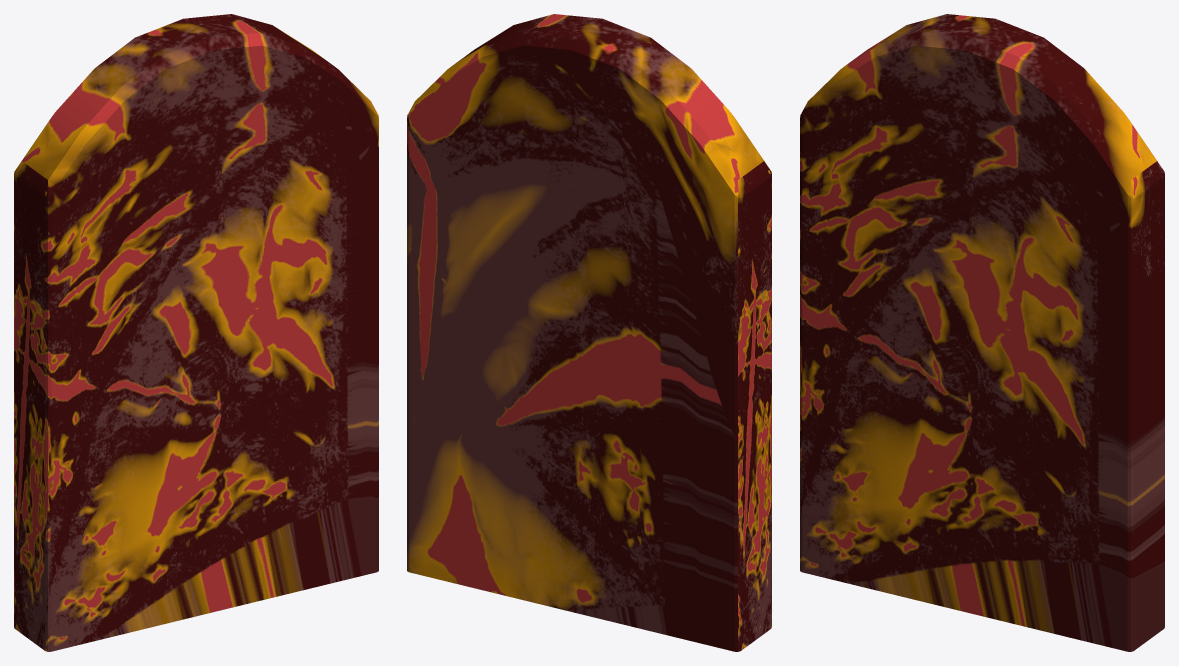
Rendered from tombstones1.fbx.
3 views of the same model, side by side, from view 1: azimuth 30°, elevation 25°; view 2: azimuth 150°, elevation 25°; view 3: azimuth 330°, elevation 25° (orthographic).
Parts seen in each view (by area): view 1: Tombstone 3_Lapide3_0; view 2: Tombstone 3_Lapide3_0; view 3: Tombstone 3_Lapide3_0.
Part boxes in pixels (x1,y1,x2,y2): Tombstone 3_Lapide3_0: [14, 14, 378, 651]; Tombstone 3_Lapide3_0: [407, 14, 771, 651]; Tombstone 3_Lapide3_0: [800, 14, 1164, 651].
Size of the model in its own units: 45.21 by 74.04 by 8.24.
